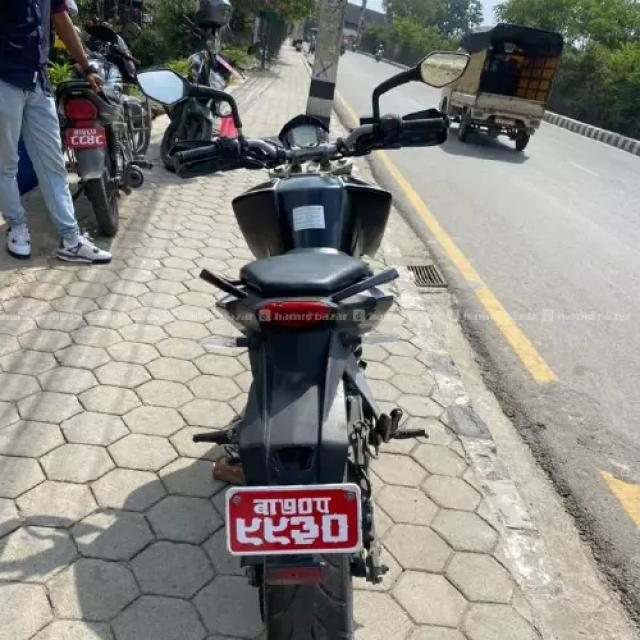License-plate: (223, 475, 368, 556), (66, 122, 111, 150)
